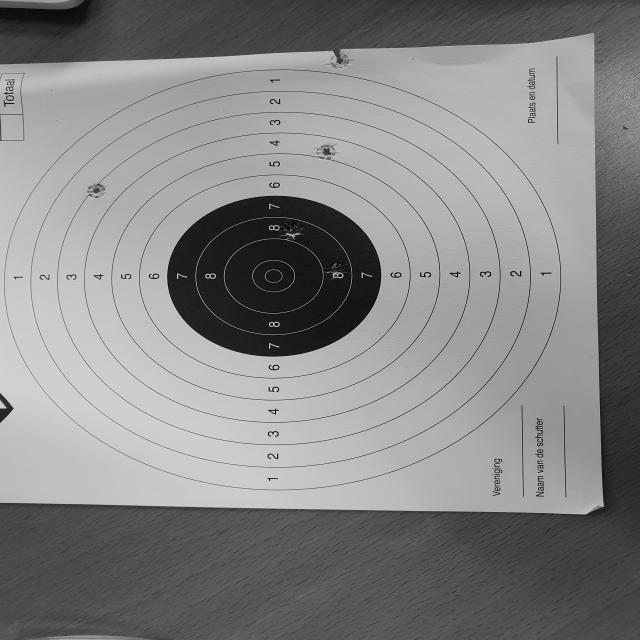0: (325, 52, 354, 71)
3: (85, 183, 107, 199)
5: (314, 142, 339, 160)
8: (278, 220, 308, 241), (322, 258, 350, 280)
Target: (0, 70, 562, 492)
black_contour: (167, 195, 381, 356)
